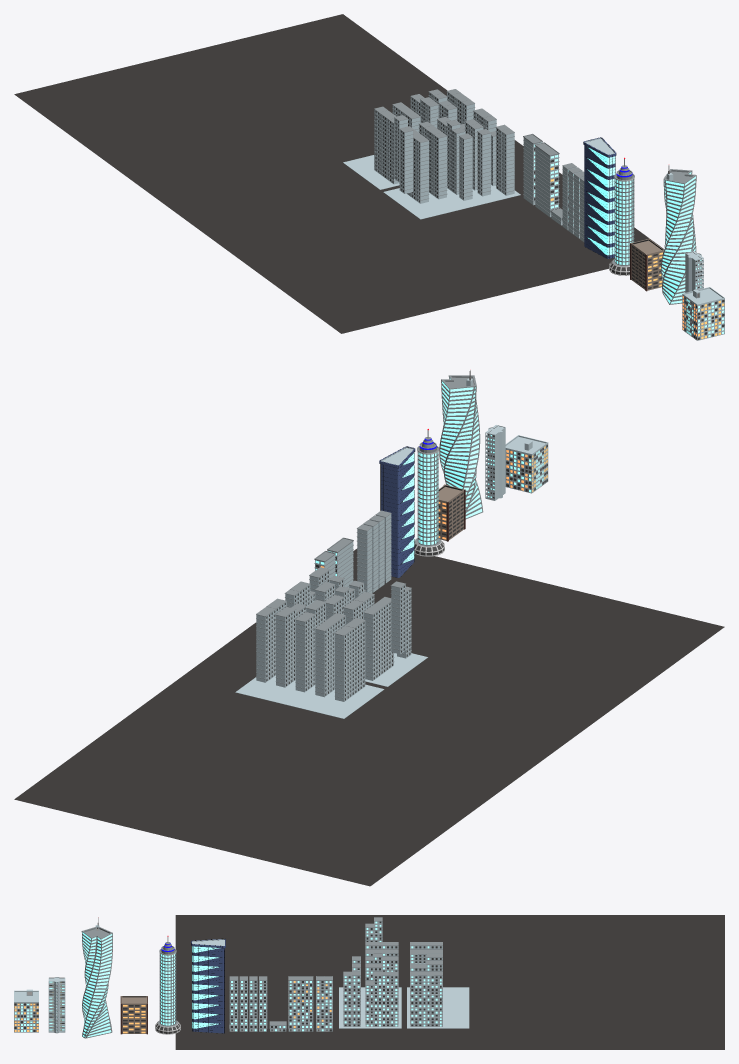
The model's file is city_parts_1.fbx.
3 renders of one model, top to bottom at view 1: azimuth 30°, elevation 25°; view 2: azimuth 150°, elevation 25°; view 3: azimuth 270°, elevation 25°, orthographic. The views are drawn at different scales.
Visible parts, largest first — view 1: ground, City, BuildingTwistedTLU, BuildingModernTLU, BuildingRoundTowerTLU, BuildingSquareTLU, BuildingRectangleLargeTLU, BuildingRectangleOrangeTLU, BuildingRectangleMediumTLU, BuildingBalconyTLU; view 2: ground, City, BuildingTwistedTLU, BuildingModernTLU, BuildingRoundTowerTLU, BuildingSquareTLU, BuildingBalconyTLU, BuildingRectangleOrangeTLU, BuildingRectangleSectionRightTLU.002, BuildingRectangleLargeTLU; view 3: ground, City, BuildingModernTLU, BuildingTwistedTLU, BuildingRoundTowerTLU, BuildingRectangleLargeTLU, BuildingSquareTLU, BuildingRectangleOrangeTLU, BuildingBalconyTLU, BuildingRectangleMediumTLU, BuildingRectangleSmallTLU, BuildingRectangleSectionMidTLU (+2 smaller).
Boxes of the visible parts, bbox=[...] form: ground: bbox=[14, 14, 664, 333]; City: bbox=[343, 89, 520, 219]; BuildingTwistedTLU: bbox=[661, 165, 696, 304]; BuildingModernTLU: bbox=[583, 137, 616, 258]; BuildingRoundTowerTLU: bbox=[609, 157, 634, 275]; BuildingSquareTLU: bbox=[682, 287, 724, 340]; BuildingRectangleLargeTLU: bbox=[534, 142, 559, 217]; BuildingRectangleOrangeTLU: bbox=[630, 238, 663, 291]; BuildingRectangleMediumTLU: bbox=[523, 133, 542, 205]; BuildingBalconyTLU: bbox=[685, 251, 703, 292]; ground: bbox=[14, 548, 724, 886]; City: bbox=[235, 567, 427, 718]; BuildingTwistedTLU: bbox=[439, 370, 483, 519]; BuildingModernTLU: bbox=[379, 446, 415, 577]; BuildingRoundTowerTLU: bbox=[414, 429, 444, 556]; BuildingSquareTLU: bbox=[505, 435, 548, 493]; BuildingBalconyTLU: bbox=[485, 425, 505, 500]; BuildingRectangleOrangeTLU: bbox=[438, 484, 465, 541]; BuildingRectangleSectionRightTLU.002: bbox=[356, 524, 372, 593]; BuildingRectangleLargeTLU: bbox=[327, 537, 353, 587]; ground: bbox=[175, 915, 724, 1049]; City: bbox=[339, 917, 469, 1028]; BuildingModernTLU: bbox=[191, 938, 225, 1033]; BuildingTwistedTLU: bbox=[81, 917, 112, 1038]; BuildingRoundTowerTLU: bbox=[155, 936, 180, 1034]; BuildingRectangleLargeTLU: bbox=[288, 976, 313, 1031]; BuildingSquareTLU: bbox=[14, 989, 38, 1032]; BuildingRectangleOrangeTLU: bbox=[120, 996, 147, 1034]; BuildingBalconyTLU: bbox=[48, 977, 65, 1033]; BuildingRectangleMediumTLU: bbox=[316, 976, 332, 1031]; BuildingRectangleSmallTLU: bbox=[229, 976, 238, 1031]; BuildingRectangleSectionMidTLU: bbox=[249, 976, 257, 1031].
Size of the model in its own units: 36158 by 14199 by 80666.
